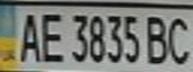3: (66, 10, 90, 64), (106, 11, 127, 64)
5: (121, 11, 145, 65)
8: (84, 11, 106, 64)
A: (15, 8, 45, 63)
B: (142, 12, 172, 66)
C: (163, 12, 193, 68)
E: (36, 9, 66, 63)
